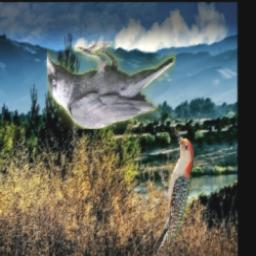Crow: (47, 41, 176, 129)
Woodpecker: (152, 127, 192, 255)
